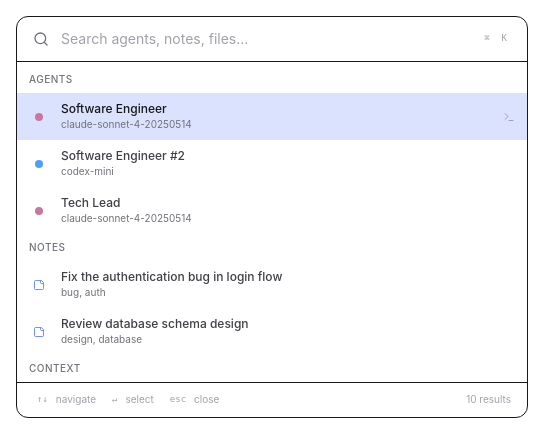
Scenario: CommandPalette › search filtering › filters agents by name
The width and height of the screenshot is (545, 435).
Type "software" into the field with placeholder "Search agents, notes, files…" at point(265, 39), box [61,29,468,49]
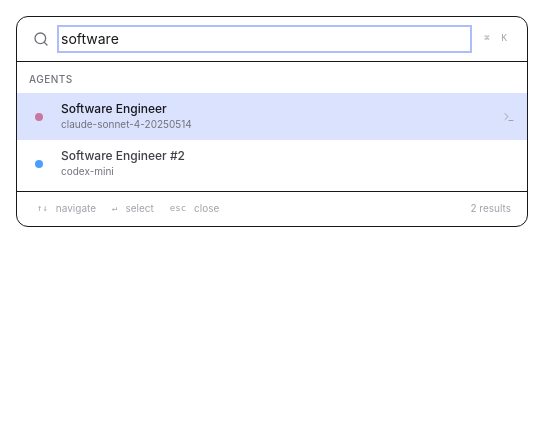
Expected: the text "Software Engineer" is shown, [61,101,167,117]
Result: the button "Tech Lead" is gone
